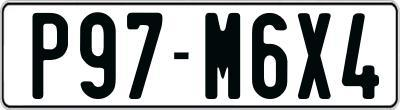4: (341, 12, 380, 104)
6: (252, 10, 288, 101)
7: (127, 13, 166, 104)
9: (80, 10, 120, 102)
M: (204, 11, 243, 99)
P: (32, 12, 68, 98)
X: (297, 10, 331, 98)
